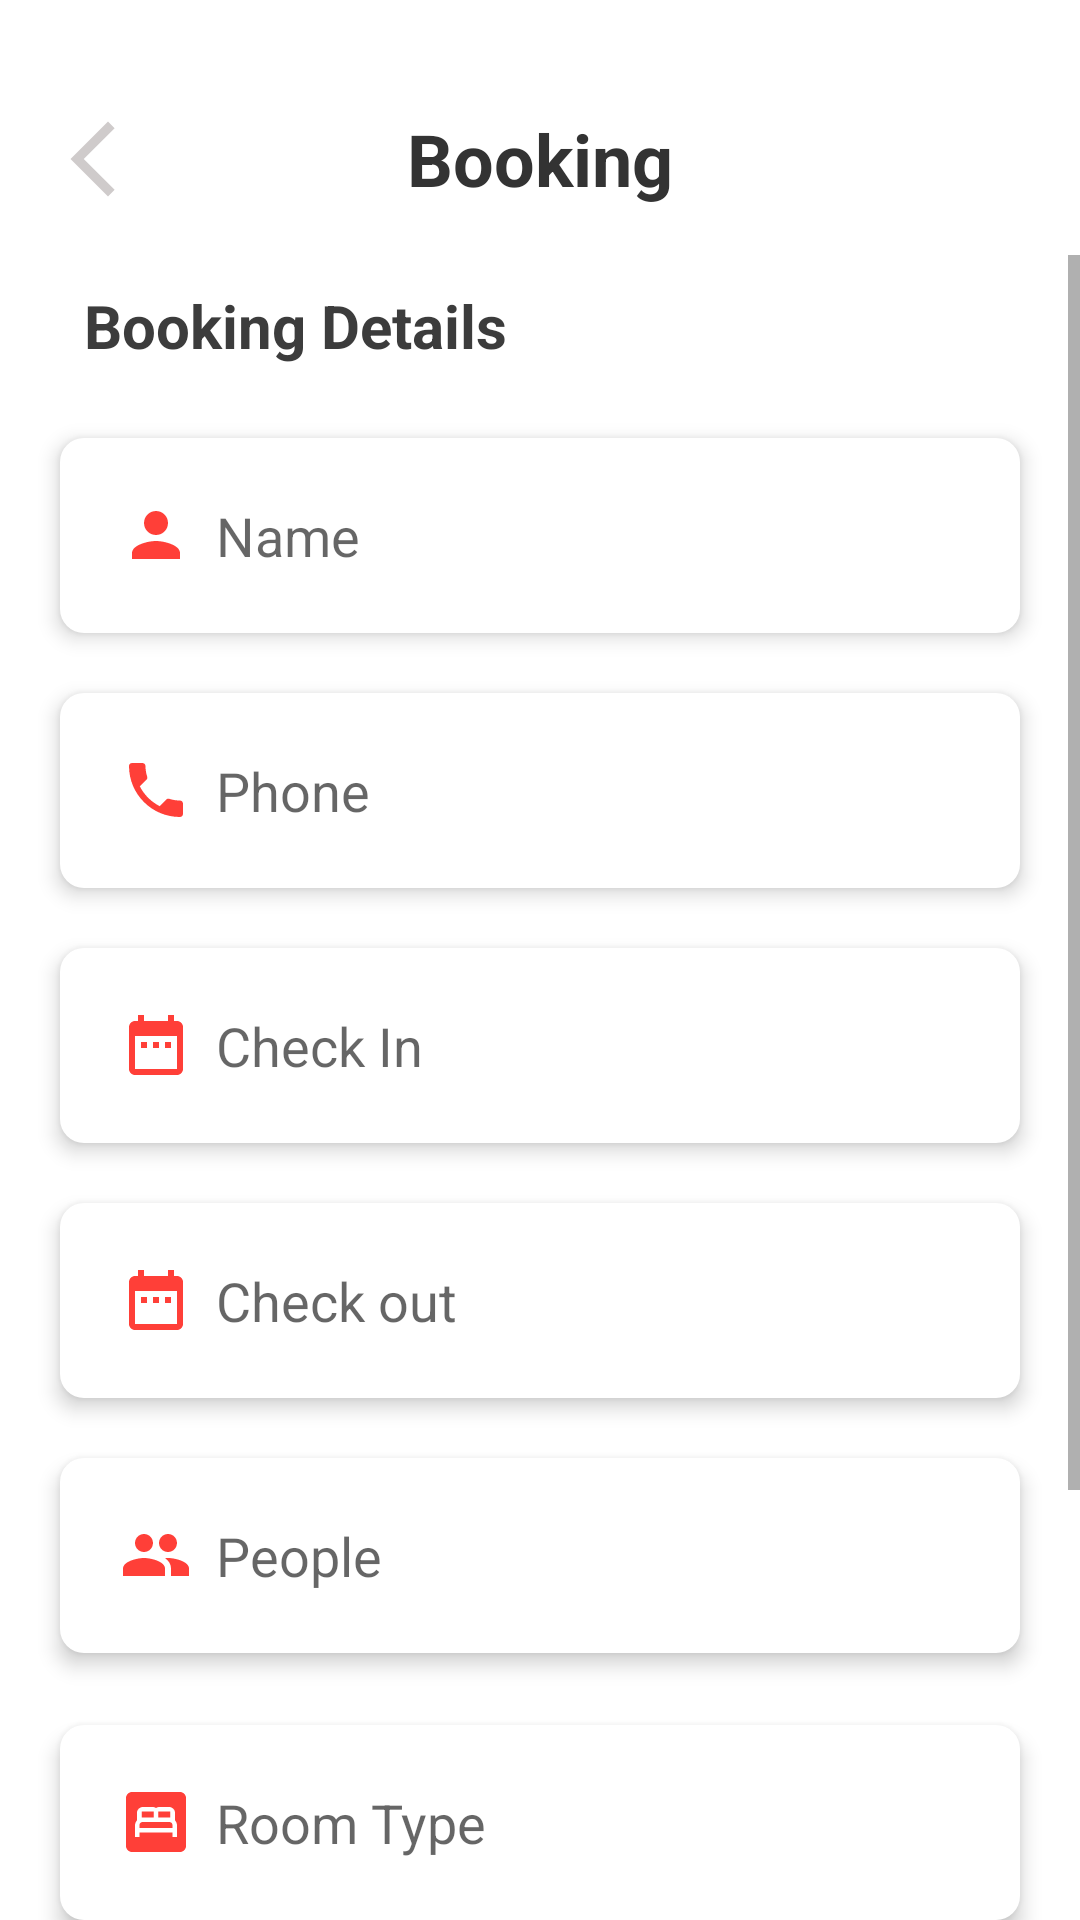

Screen size 1080×1920. Icon name, then its box in pixels as bbox=(x1, y1, x2, y2):
arrow back: bbox=(71, 122, 114, 196)
